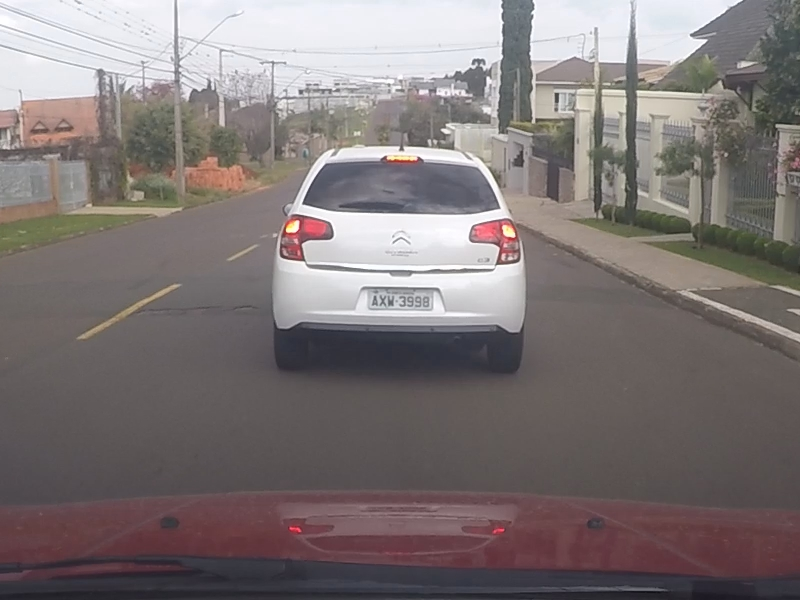placa: (368, 289, 433, 311)
